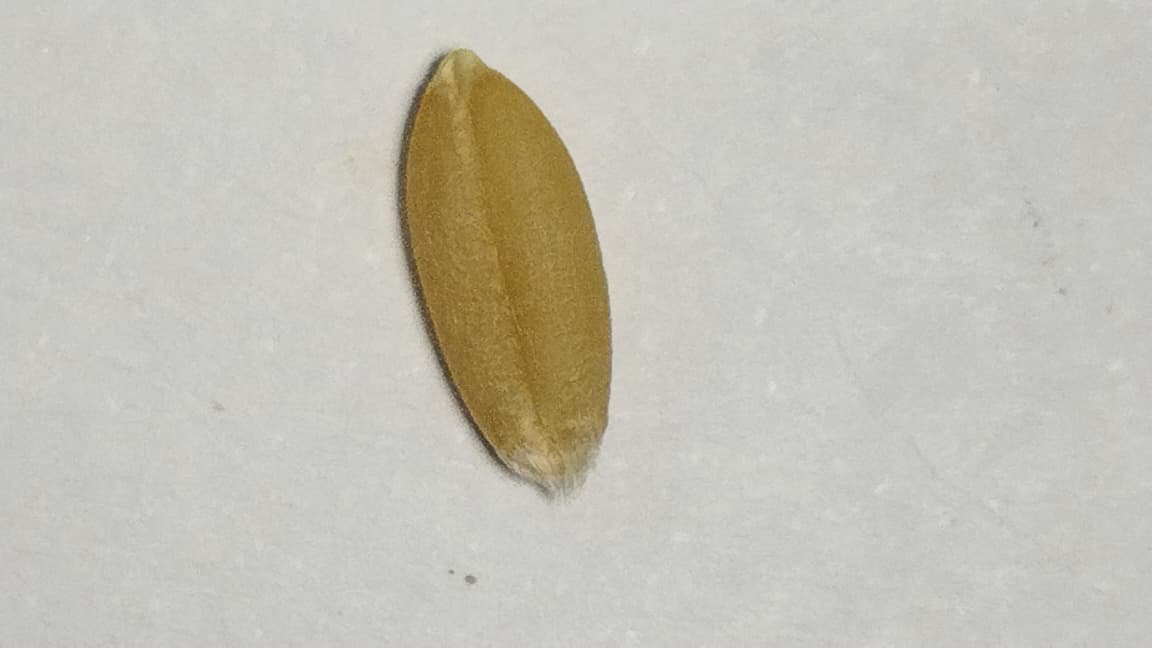healthy: (405, 50, 610, 481)
